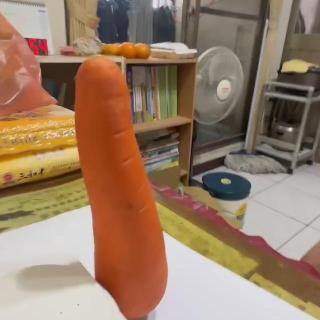carrot: (71, 55, 169, 319)
